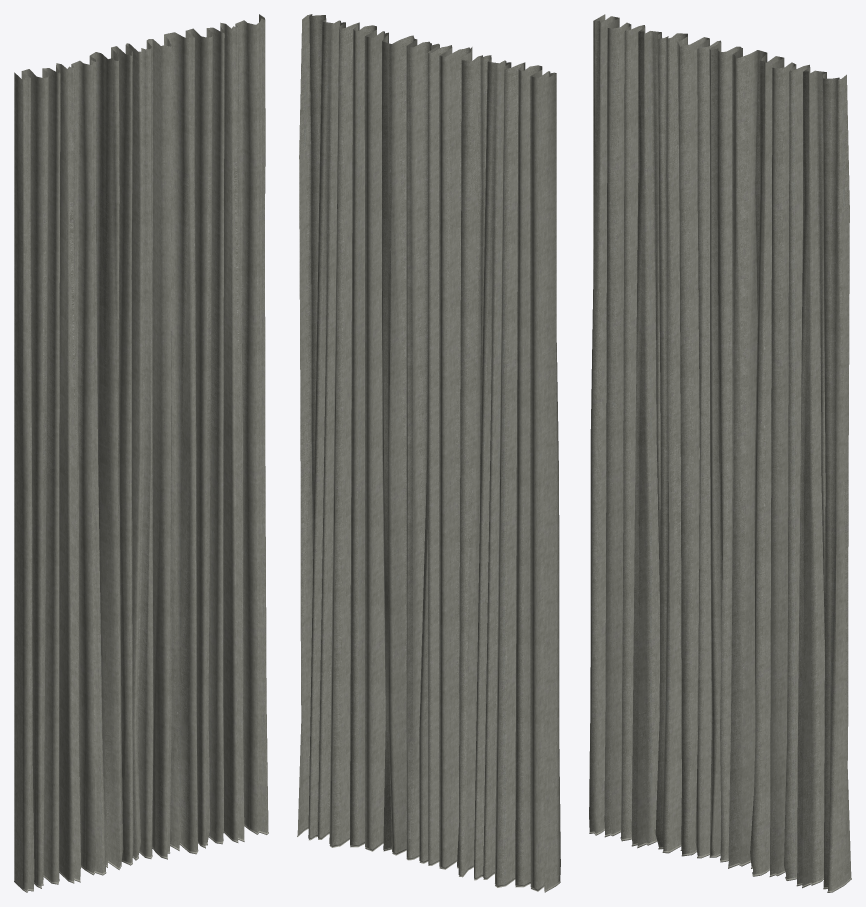
File: Curtain.FBX
The picture shows the model from 3 angles, left to right: view 1: azimuth 30°, elevation 25°; view 2: azimuth 150°, elevation 25°; view 3: azimuth 330°, elevation 25°; orthographic projection.
Parts seen in each view (by area): view 1: curtain; view 2: curtain; view 3: curtain.
Boxes of the visible parts, x1,y1,x2,y2 form: curtain: (14,14,268,892); curtain: (297,14,560,892); curtain: (589,14,851,892).
Size of the model in its own units: 80.68 by 254 by 14.21.
Materials: 1 (1 with a texture image).
